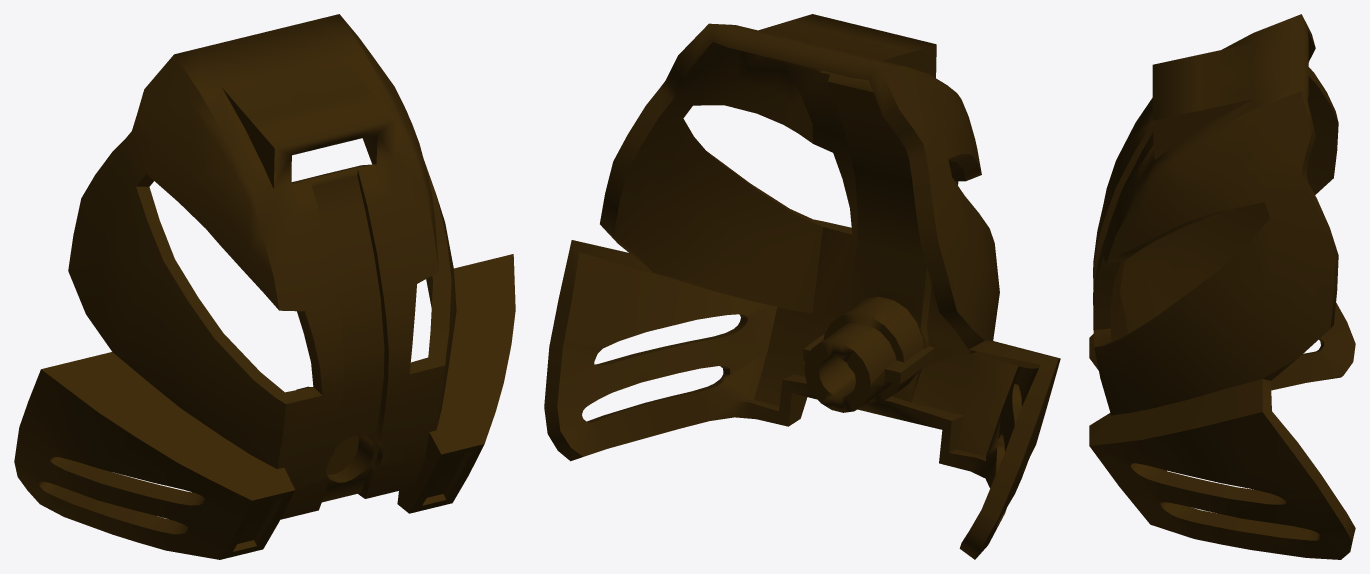
File: bionicle_kakama_mask_32568.glb
The picture shows the model from 3 angles, left to right: view 1: azimuth 30°, elevation 25°; view 2: azimuth 150°, elevation 25°; view 3: azimuth 270°, elevation 25°; orthographic projection. The views are drawn at different scales.
Parts seen in each view (by area): view 1: 00001_32568.dat; view 2: 00001_32568.dat; view 3: 00001_32568.dat.
Boxes of the visible parts, bbox=[...] form: 00001_32568.dat: bbox=[14, 14, 515, 559]; 00001_32568.dat: bbox=[544, 14, 1060, 559]; 00001_32568.dat: bbox=[1089, 14, 1355, 559].
Size of the model in its own units: 2.33 by 2.07 by 1.2.
